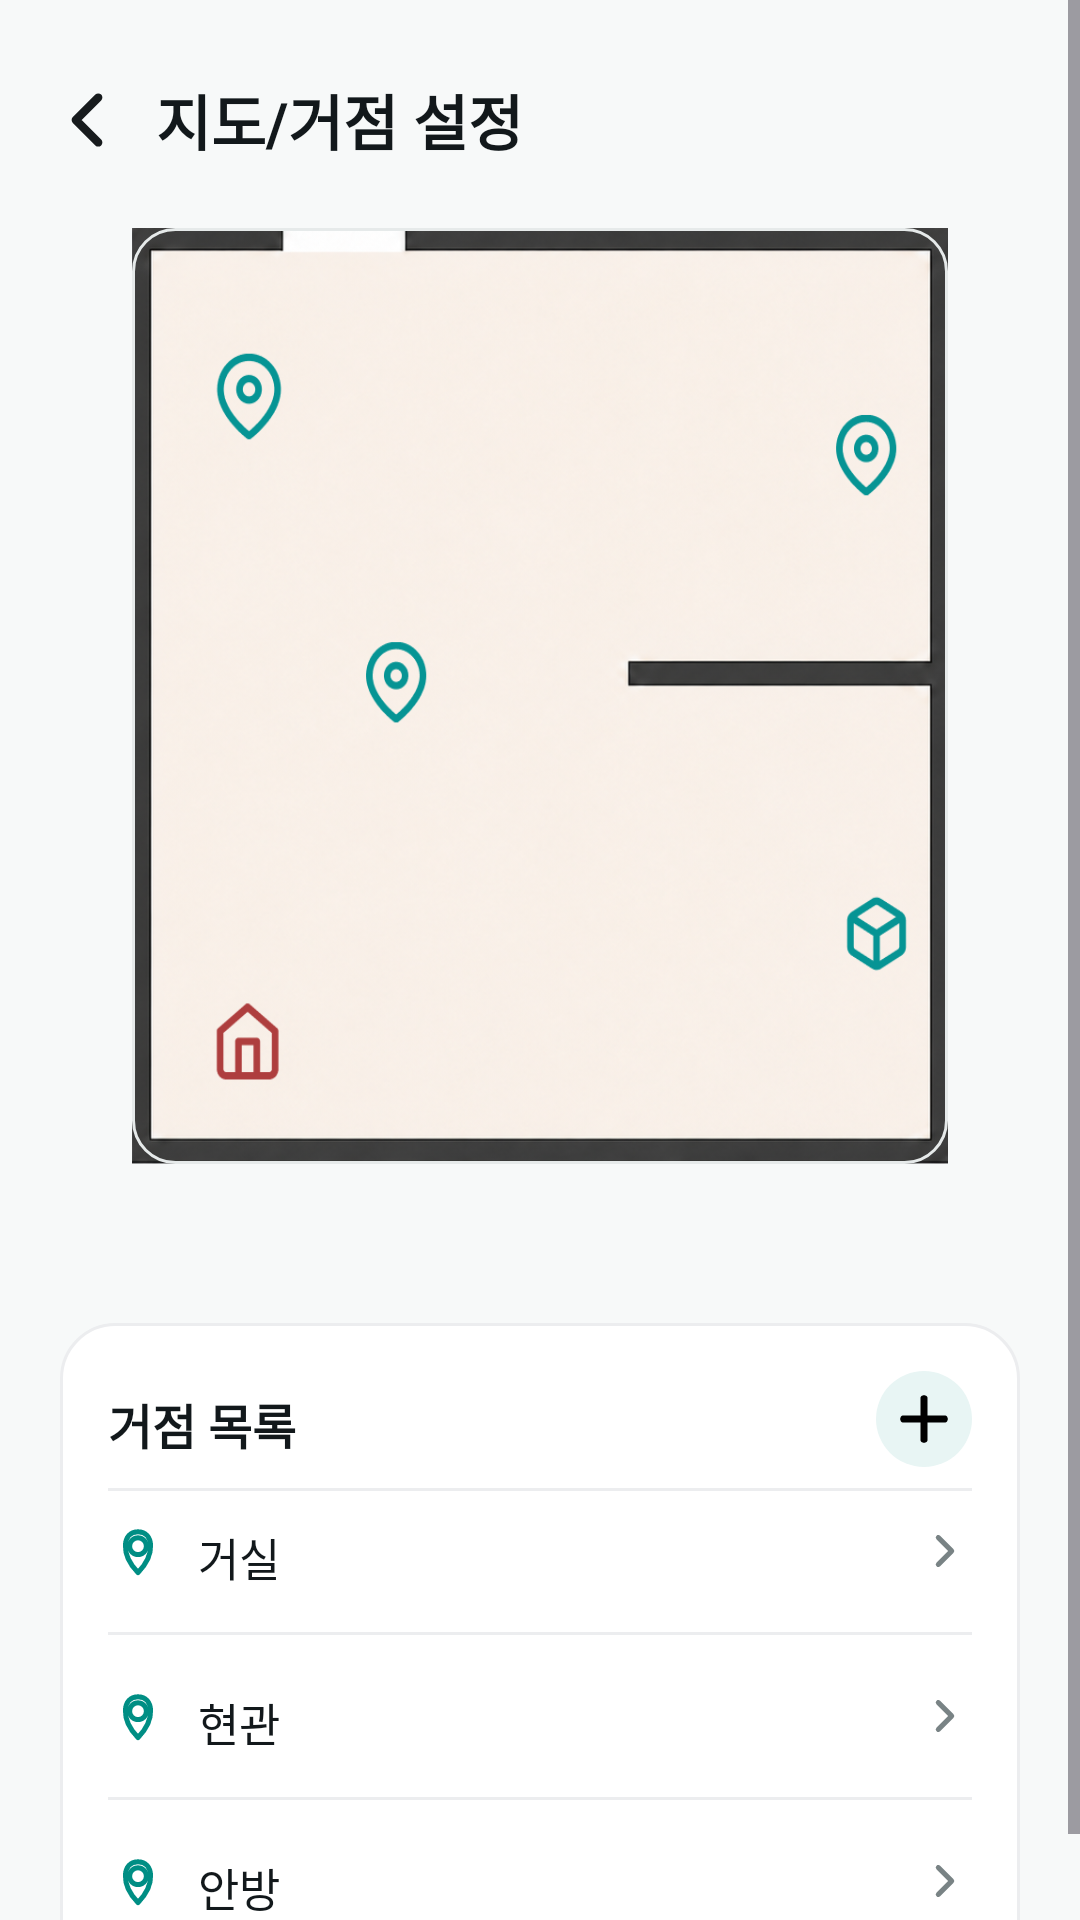

Locate icon controls on the screen. Image size 1080×1920, boxes as (x1, y1, x2, y2).
plus: (900, 1395, 948, 1443)
